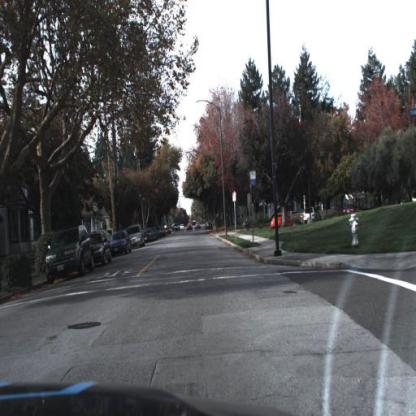car: (42, 221, 97, 288), (90, 228, 115, 268), (91, 230, 112, 268), (127, 221, 149, 255), (111, 230, 134, 260), (110, 231, 132, 259), (270, 212, 292, 233), (129, 224, 145, 250), (270, 212, 292, 229), (303, 206, 323, 224), (303, 207, 322, 223)
